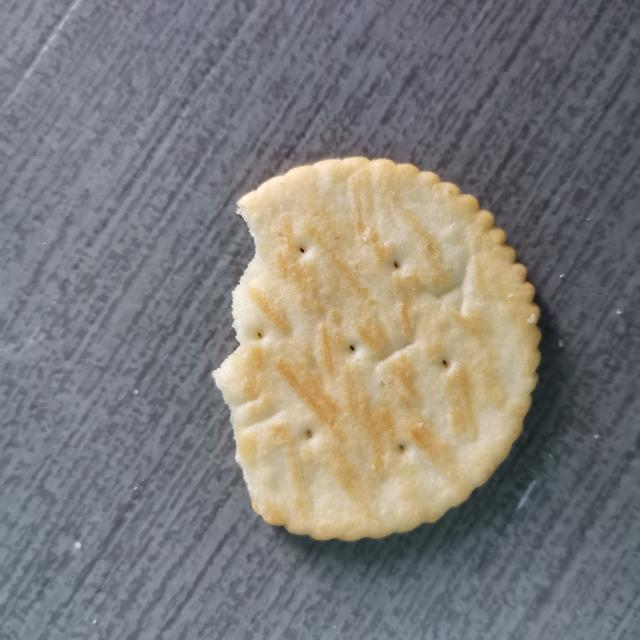Broken: (212, 154, 543, 542)
